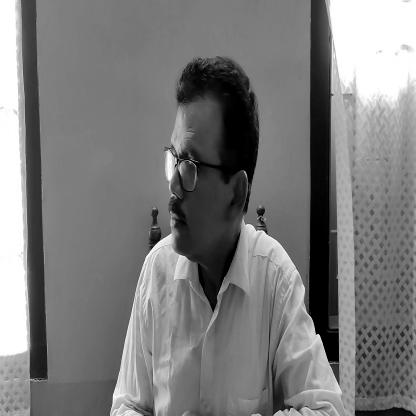Distracted: (167, 58, 261, 263)
